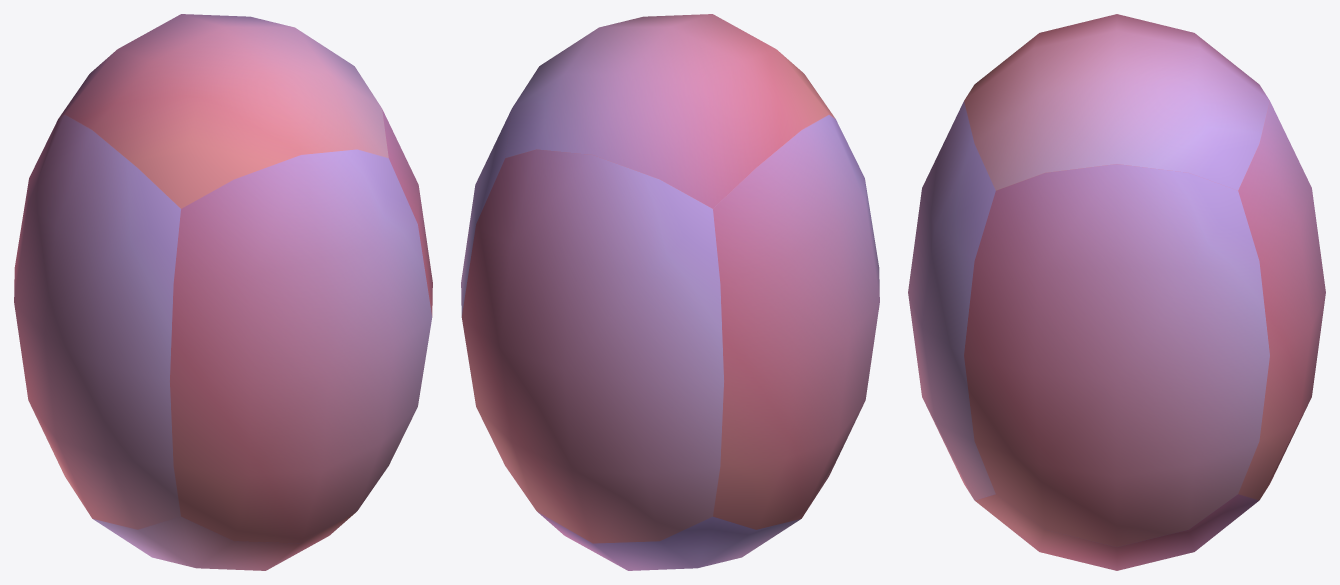
File: egg.FBX
3 views of the same model, side by side, from view 1: azimuth 30°, elevation 25°; view 2: azimuth 150°, elevation 25°; view 3: azimuth 270°, elevation 25° (orthographic).
Parts seen in each view (by area): view 1: Box001; view 2: Box001; view 3: Box001.
Part boxes in pixels (x1,y1,x2,y2): Box001: [14, 14, 432, 570]; Box001: [461, 14, 879, 570]; Box001: [908, 14, 1325, 570].
Size of the model in its own units: 131 by 185 by 134.
Materials: 1 (1 with a texture image).
